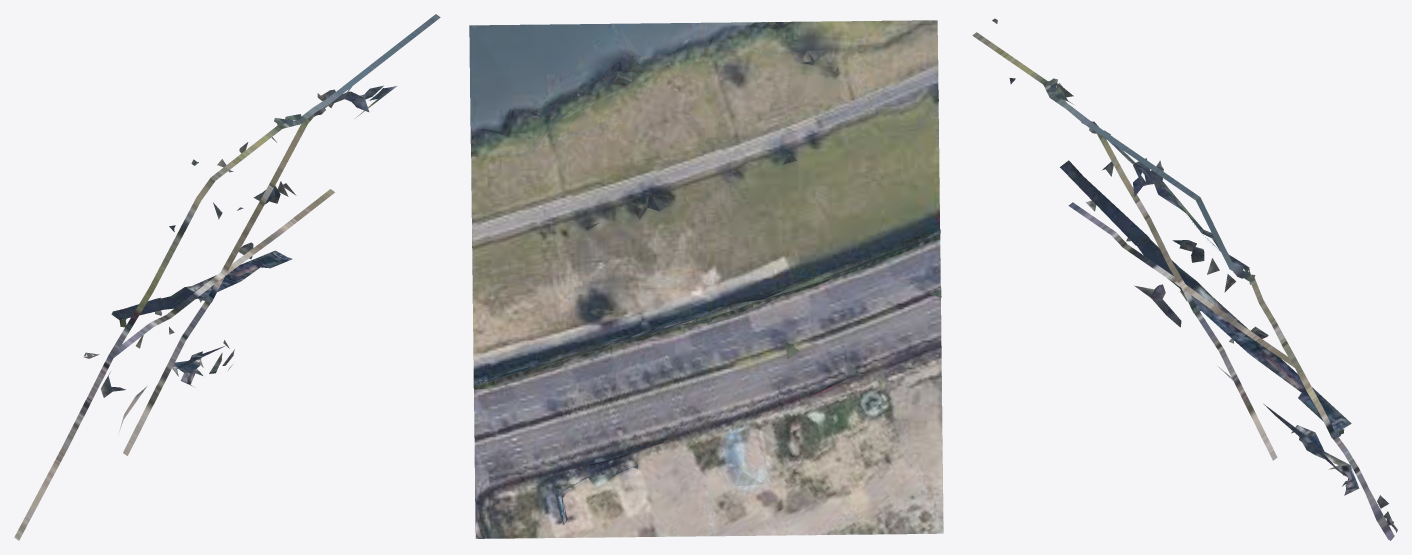
3 views of the same model, side by side, from view 1: azimuth 30°, elevation 25°; view 2: azimuth 150°, elevation 25°; view 3: azimuth 270°, elevation 25° (orthographic). The views are drawn at different scales.
Size of the model in its own units: 156 by 142 by 133.
1 material, 1 textured.
